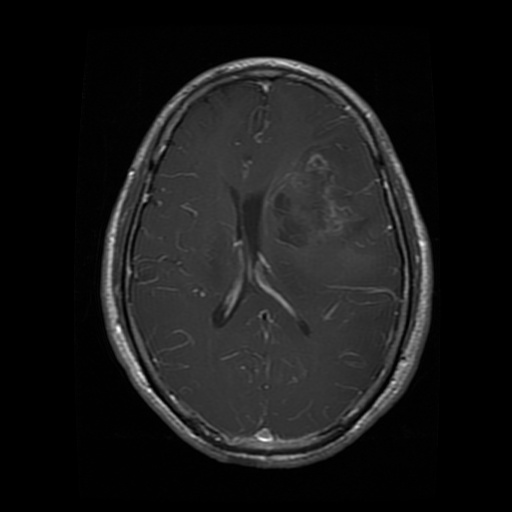glioma: (265, 145, 363, 252)
